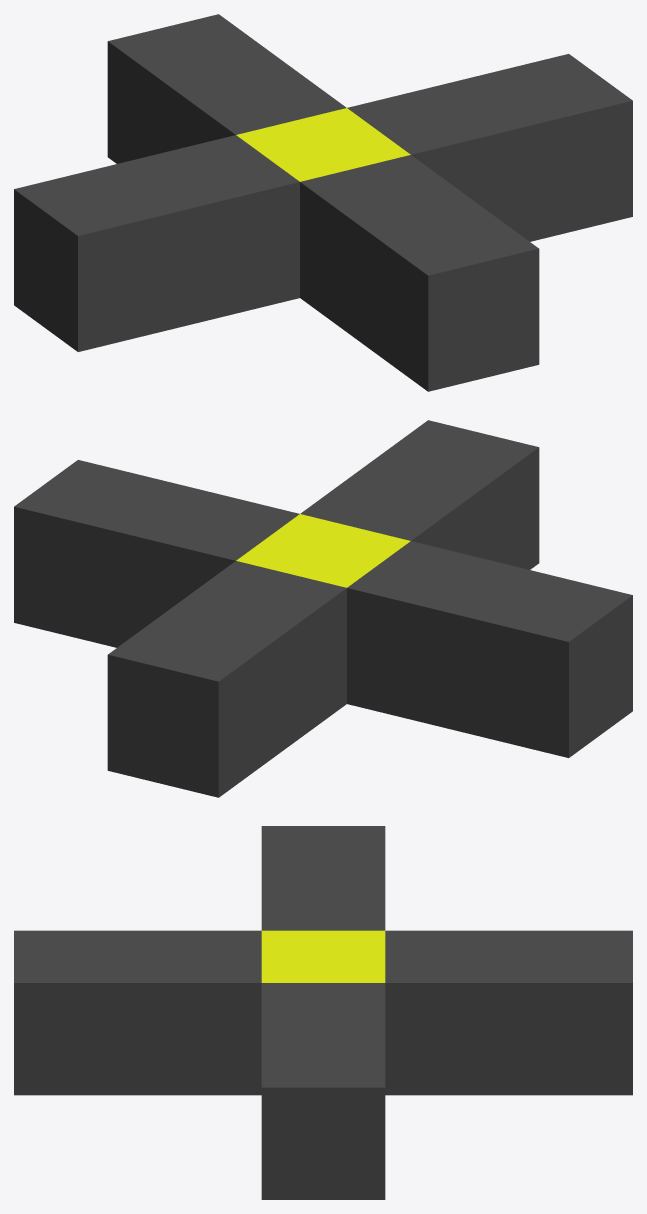
The model's file is helice.obj.
3 renders of one model, top to bottom at view 1: azimuth 30°, elevation 25°; view 2: azimuth 150°, elevation 25°; view 3: azimuth 270°, elevation 25°, orthographic. The views are drawn at different scales.
Size of the model in its own units: 0.5 by 0.1 by 0.5.
1 material, 1 textured.
